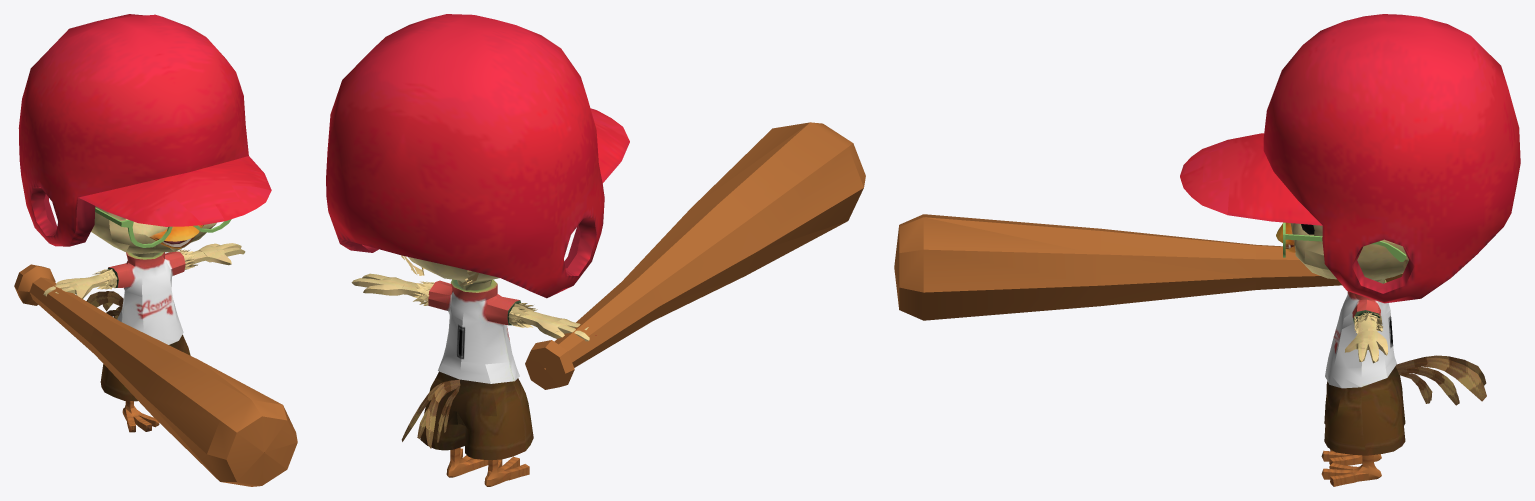
The model's file is chicken_little_baseball_player.glb.
The picture shows the model from 3 angles, left to right: view 1: azimuth 30°, elevation 25°; view 2: azimuth 150°, elevation 25°; view 3: azimuth 270°, elevation 25°; orthographic projection. The views are drawn at different scales.
Visible parts, largest first — view 1: Object_9, Object_10, Object_7, Object_3, Object_14, Object_5, Object_15, Object_12; view 2: Object_9, Object_10, Object_7, Object_14, Object_15, Object_12, Object_3; view 3: Object_9, Object_10, Object_7, Object_3, Object_12, Object_15, Object_14.
Part boxes in pixels (box(x1,y1,x2,y2)): Object_9: box(18, 14, 271, 246); Object_10: box(14, 264, 297, 486); Object_7: box(100, 251, 190, 401); Object_3: box(91, 206, 216, 257); Object_14: box(43, 243, 245, 298); Object_5: box(95, 207, 231, 247); Object_15: box(122, 401, 159, 432); Object_12: box(86, 291, 123, 319); Object_9: box(326, 14, 629, 335); Object_10: box(525, 122, 865, 389); Object_7: box(420, 279, 533, 459); Object_14: box(351, 273, 589, 341); Object_15: box(446, 447, 529, 486); Object_12: box(401, 379, 460, 448); Object_3: box(408, 257, 499, 290); Object_9: box(1180, 14, 1520, 303); Object_10: box(894, 214, 1402, 320); Object_7: box(1324, 280, 1405, 455); Object_3: box(1276, 222, 1408, 283); Object_12: box(1395, 355, 1486, 405); Object_15: box(1321, 449, 1381, 486); Object_14: box(1345, 311, 1388, 363).
Size of the model in its own units: 1.79 by 2.83 by 3.66.
Materials: 14 (14 with a texture image).
